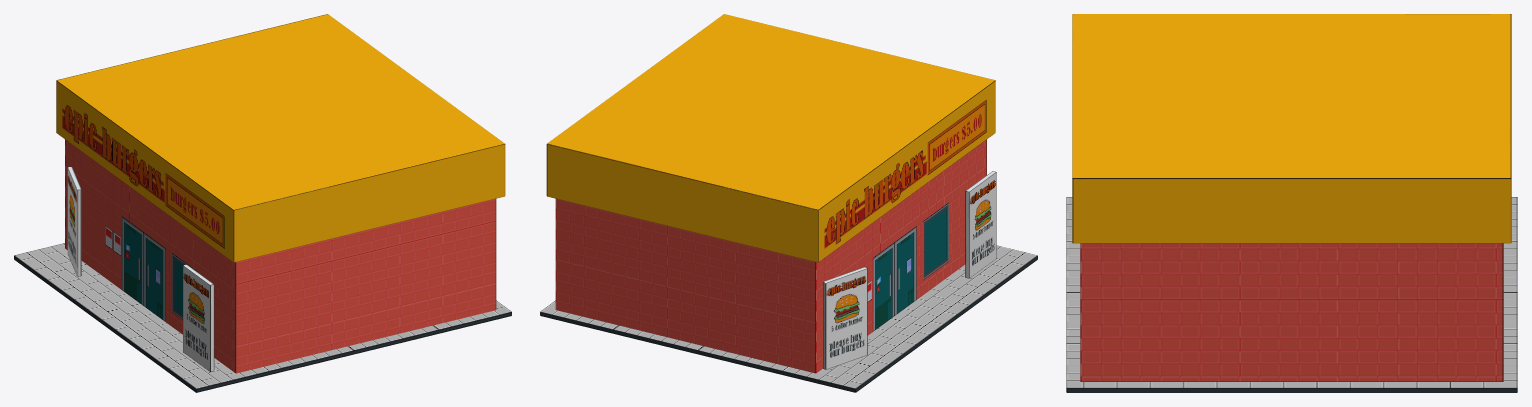
The model's file is japanes.fbx.
3 renders of one model, left to right at view 1: azimuth 30°, elevation 25°; view 2: azimuth 150°, elevation 25°; view 3: azimuth 270°, elevation 25°, orthographic. The views are drawn at different scales.
Parts seen in each view (by area): view 1: group, plane; view 2: group, plane; view 3: group, plane.
Boxes of the visible parts, box(x1,y1,x2,y2) form: group: box(56, 14, 505, 373); plane: box(14, 187, 511, 392); group: box(546, 14, 996, 373); plane: box(540, 187, 1037, 392); group: box(1072, 14, 1511, 381); plane: box(1066, 197, 1517, 392).
Bounding box in the file's own units: 1000 × 519 × 1000.
1 material, 1 textured.
